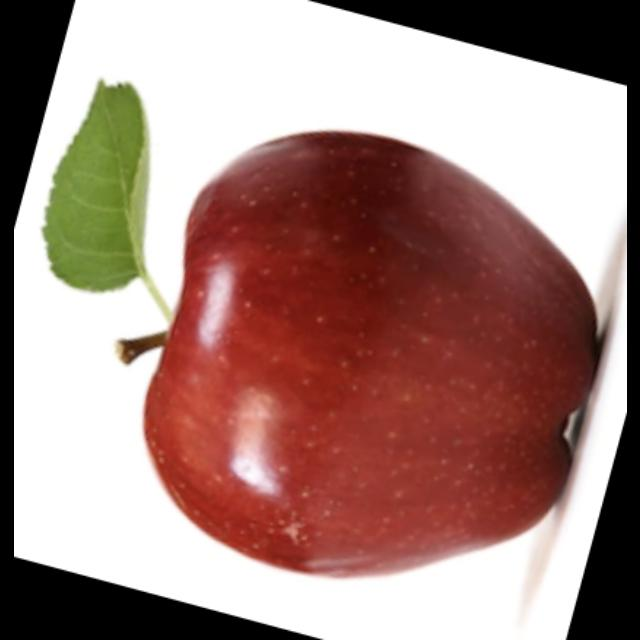Apel Segar: (141, 122, 601, 572)
